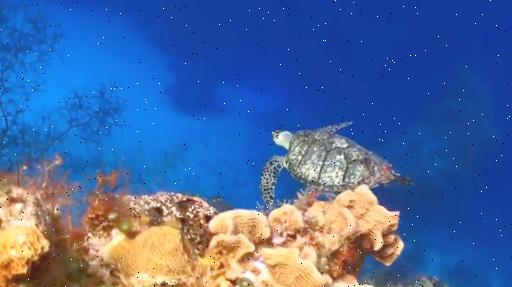Fish: (262, 123, 411, 207)
